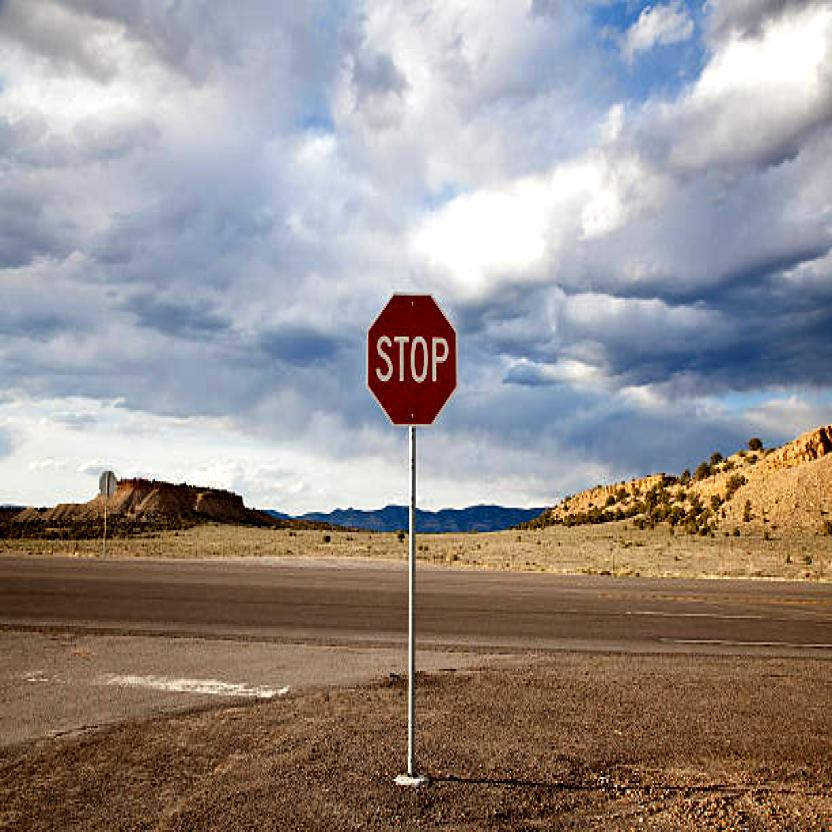Pole: (407, 425, 417, 776)
Sign: (366, 294, 458, 425)
